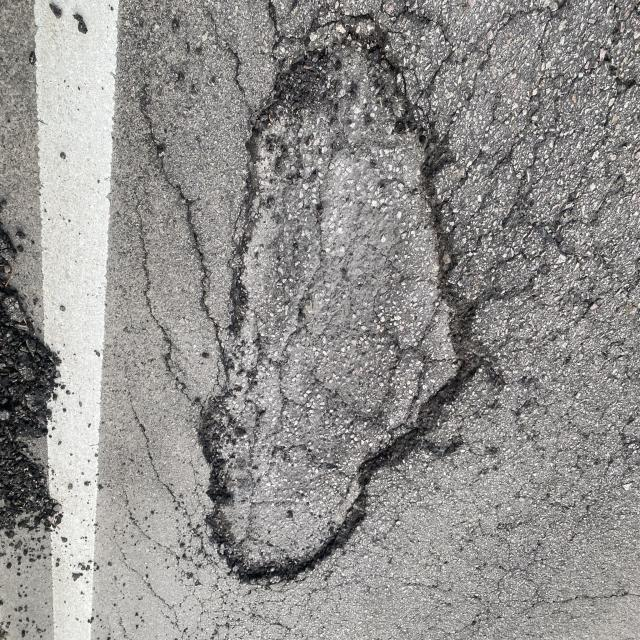pothole: (175, 6, 523, 610)
